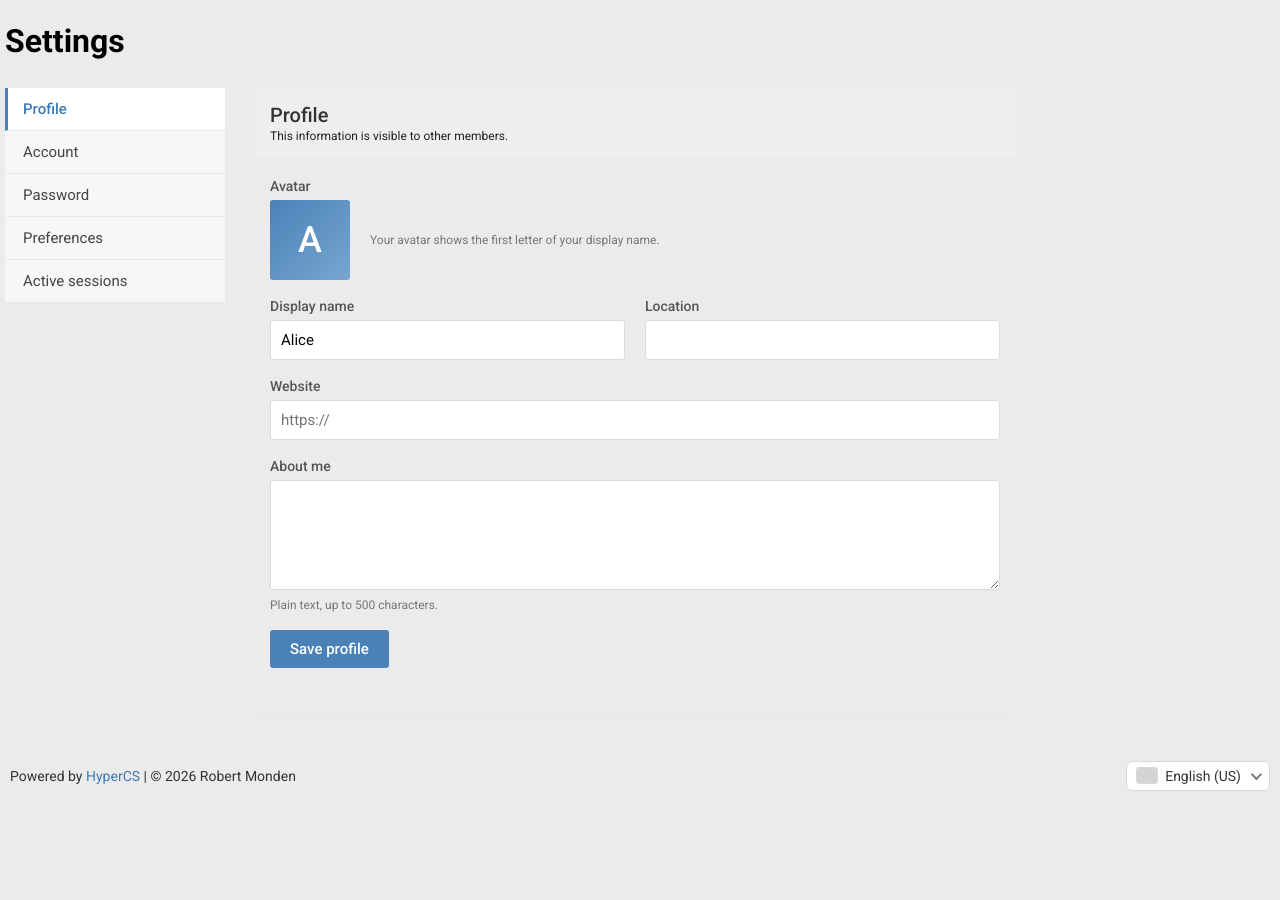
Test: the Preferences dropdown updates the footer switcher
Expected: the field labelled "Display name" is shown, [270, 320, 625, 360]
Click the link "Preferences". click: (115, 238)
box: [5, 217, 225, 260]
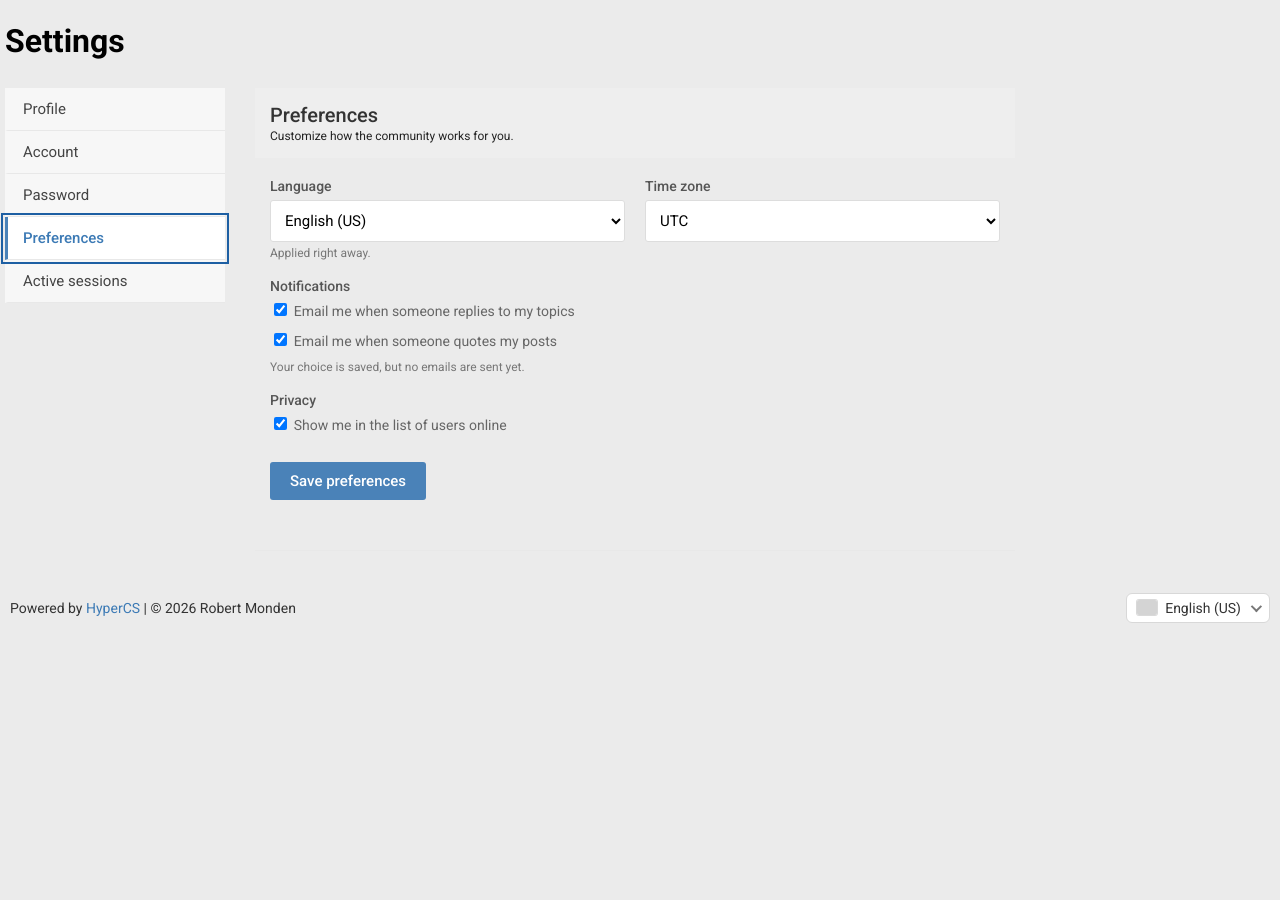
Select "Deutsch" in the dropdown labelled "Language". click: (448, 221)
box: [270, 200, 625, 242]
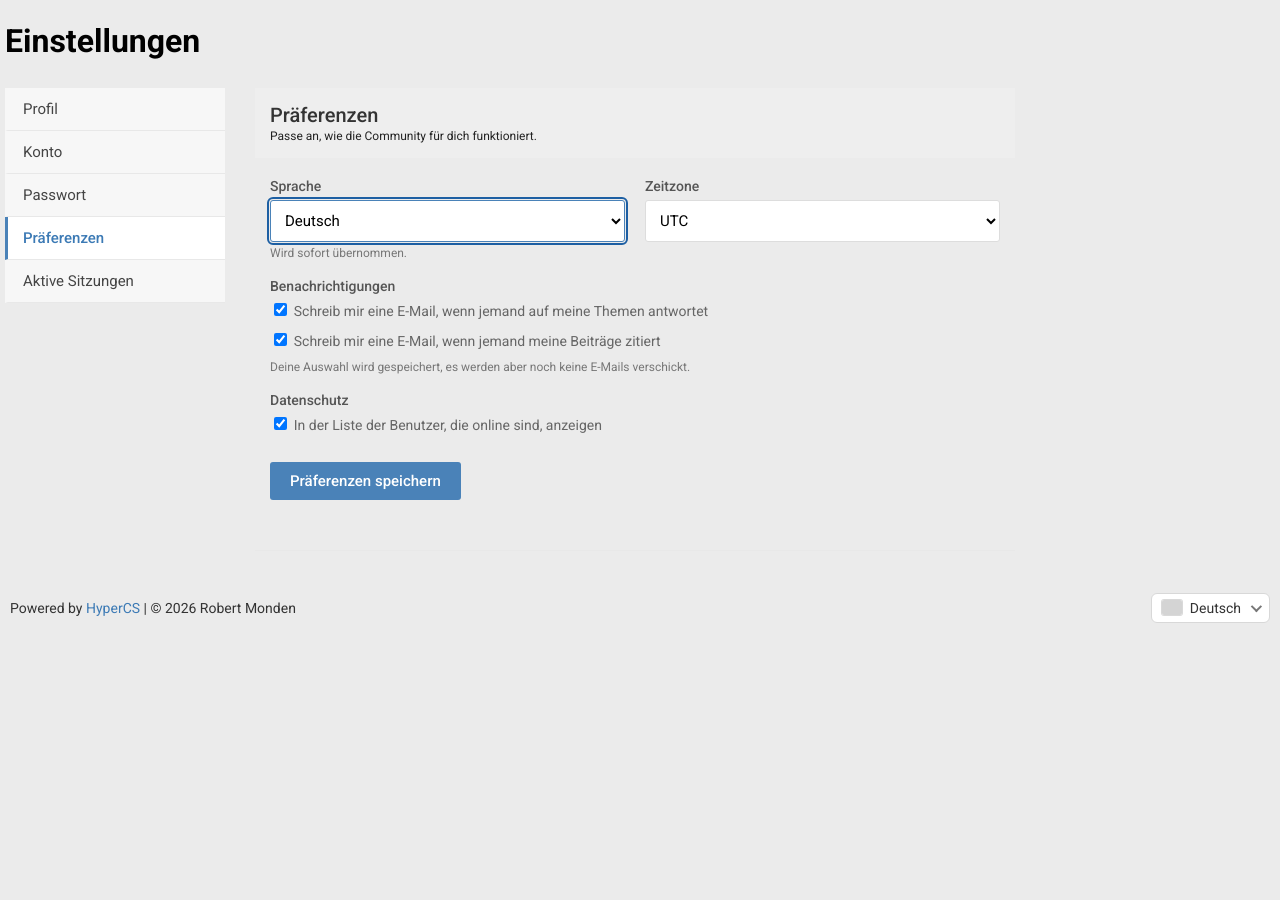
Expected: the button with aria-label "Sprache: Deutsch" is shown, [1151, 593, 1270, 623]
